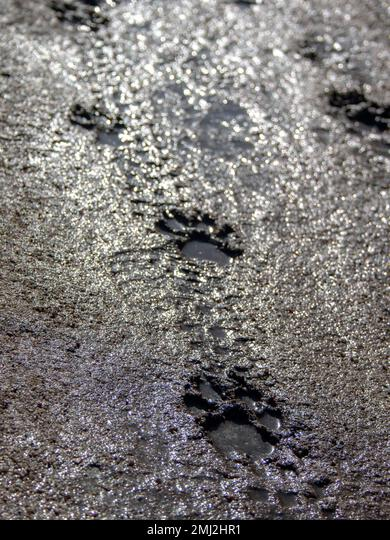coyote: (171, 369, 290, 474), (153, 206, 244, 274)
